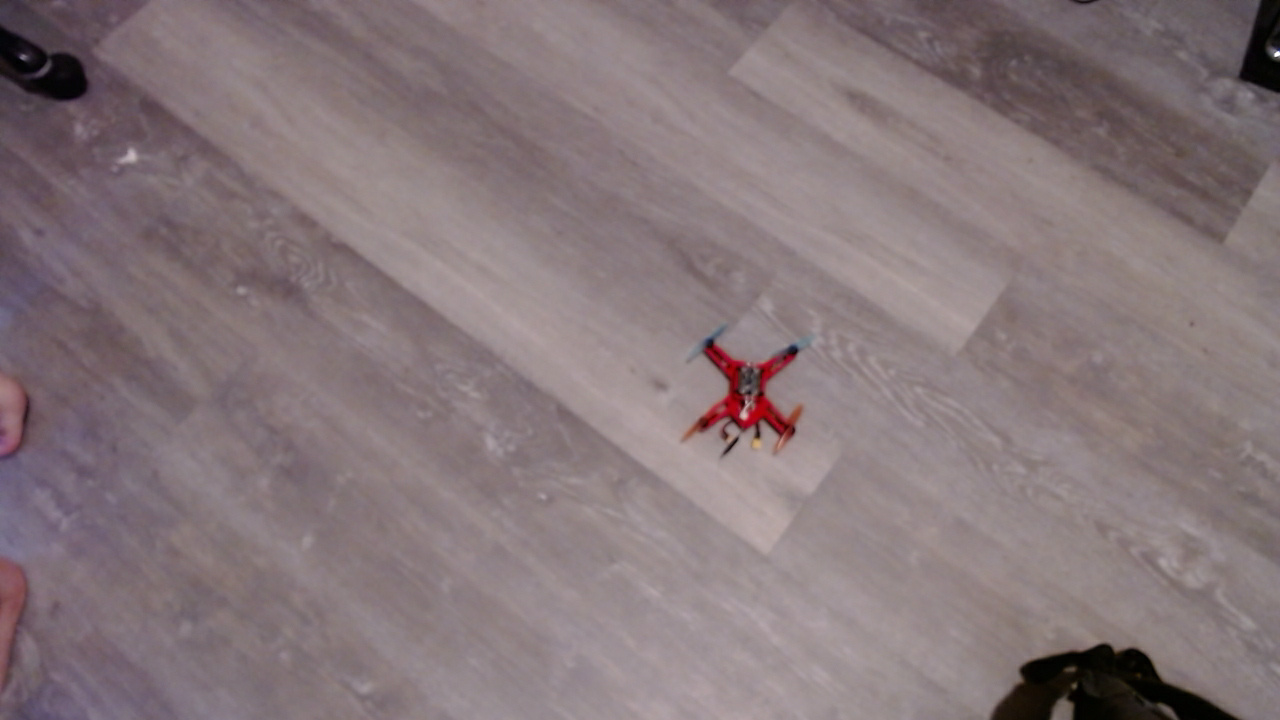crazyflie: (680, 314, 836, 470)
